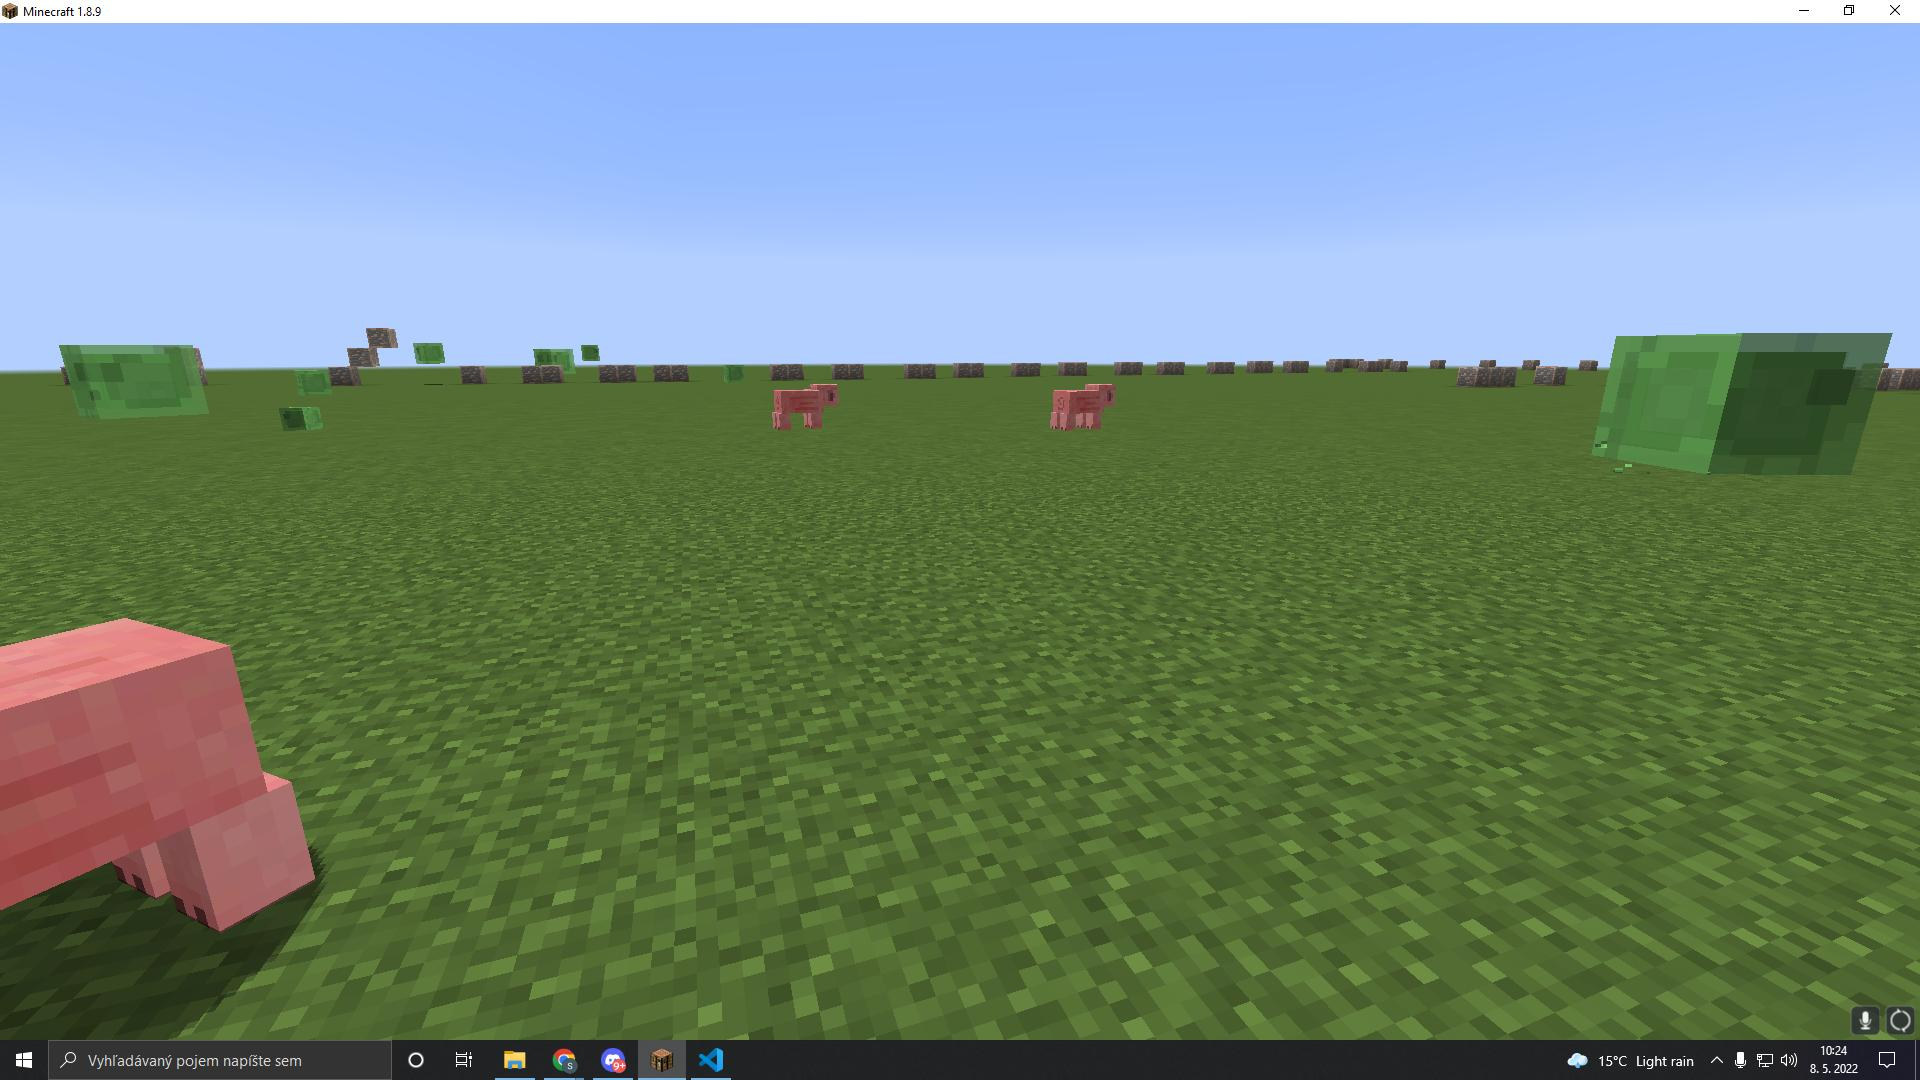pig: (0, 605, 351, 984), (1044, 375, 1125, 443), (766, 380, 847, 435)
